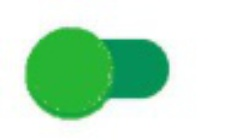Switch: (1, 1, 227, 139)
